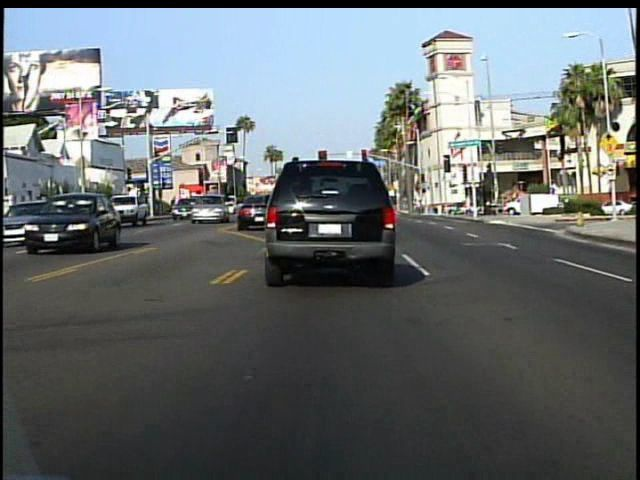person: (169, 194, 176, 221)
